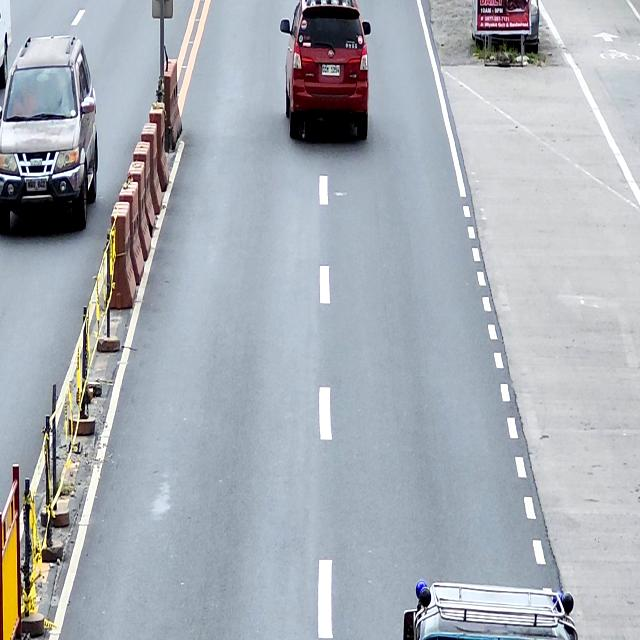Car: (0, 35, 98, 234), (280, 0, 371, 140)
License-Plate: (26, 178, 47, 192), (322, 64, 340, 76)
